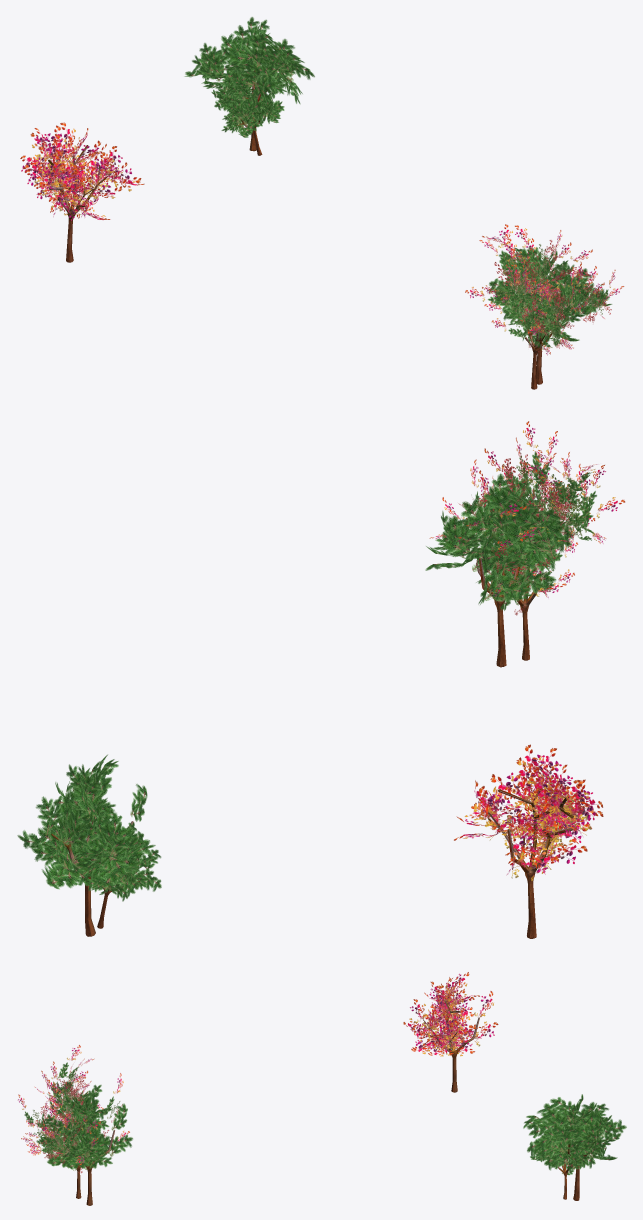
File: all_tree.glb
3 views of the same model, one above another, from view 1: azimuth 30°, elevation 25°; view 2: azimuth 150°, elevation 25°; view 3: azimuth 270°, elevation 25° (orthographic). The views are drawn at different scales.
Parts seen in each view (by area): view 1: Autumn leaf 01, Autumn leaf 02.001, Autumn leaf 03, Autumn leaf 02, Autumn leaf 02.002, Autumn tree 03; view 2: Autumn leaf 02, Autumn leaf 02.001, Autumn leaf 03, Autumn leaf 01, Autumn leaf 02.002, Autumn tree 03, Autumn tree 02; view 3: Autumn leaf 02.001, Autumn leaf 02, Autumn leaf 01, Autumn leaf 03, Autumn tree 03, Autumn leaf 02.002.
Boxes of the visible parts, box(x1,y1,x2,y2) form: Autumn leaf 01: box(465, 224, 624, 355); Autumn leaf 02.001: box(184, 17, 314, 125); Autumn leaf 03: box(20, 122, 144, 220); Autumn leaf 02: box(488, 247, 612, 344); Autumn leaf 02.002: box(211, 71, 284, 137); Autumn tree 03: box(46, 145, 107, 262); Autumn leaf 02: box(425, 473, 573, 610); Autumn leaf 02.001: box(17, 754, 155, 889); Autumn leaf 03: box(453, 744, 603, 880); Autumn leaf 01: box(429, 421, 625, 615); Autumn leaf 02.002: box(70, 822, 161, 901); Autumn tree 03: box(488, 788, 576, 938); Autumn tree 02: box(476, 557, 524, 667); Autumn leaf 02.001: box(523, 1094, 626, 1170); Autumn leaf 02: box(39, 1085, 132, 1169); Autumn leaf 01: box(18, 1045, 129, 1173); Autumn leaf 03: box(403, 972, 498, 1056); Autumn tree 03: box(422, 994, 479, 1092); Autumn leaf 02.002: box(530, 1144, 585, 1174).
Size of what is drawn, in the model's own units: 16.61 by 7.4 by 29.42.
Materials: 2 (2 with a texture image).
